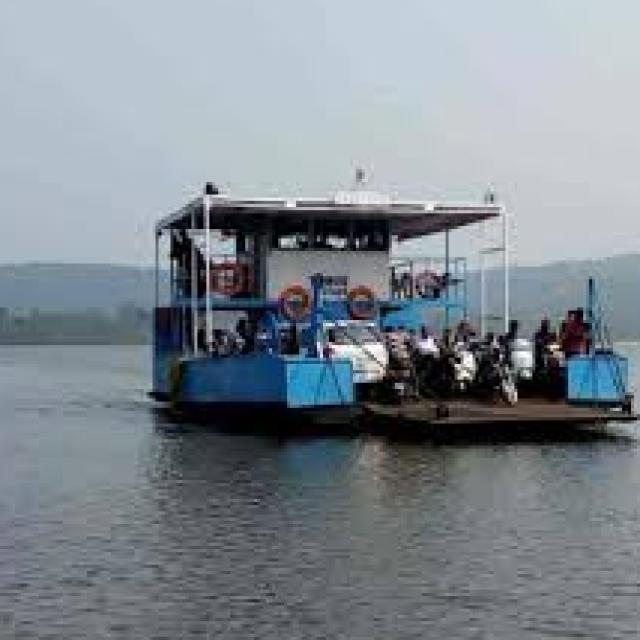navalvessels: (140, 158, 631, 443)
